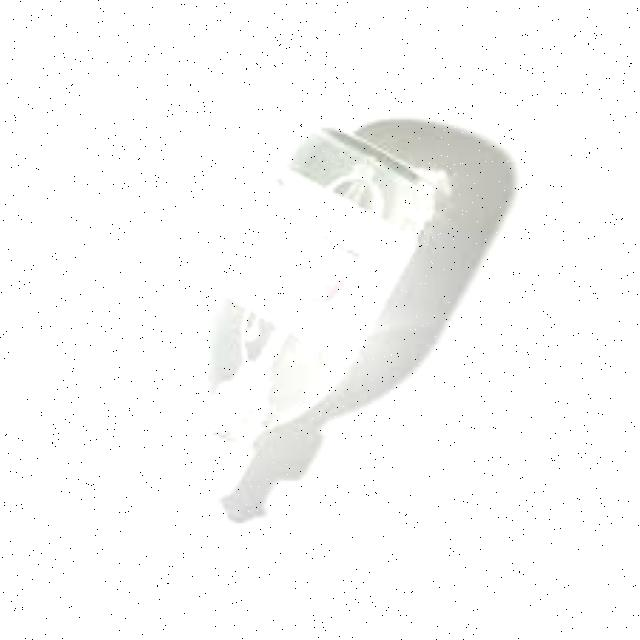liquid soap: (146, 124, 451, 544)
